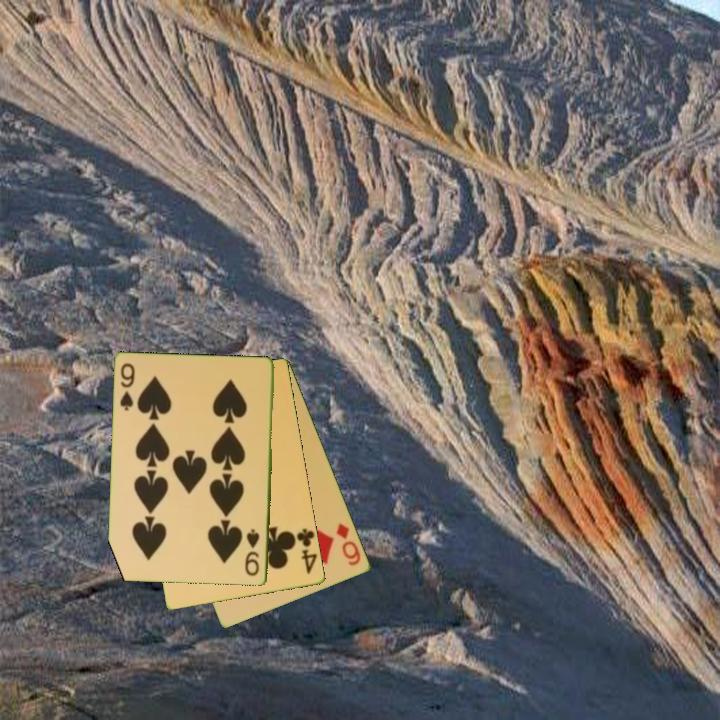4c: (294, 525, 320, 577)
6d: (333, 519, 364, 569)
9s: (242, 525, 263, 579), (117, 360, 138, 414)
